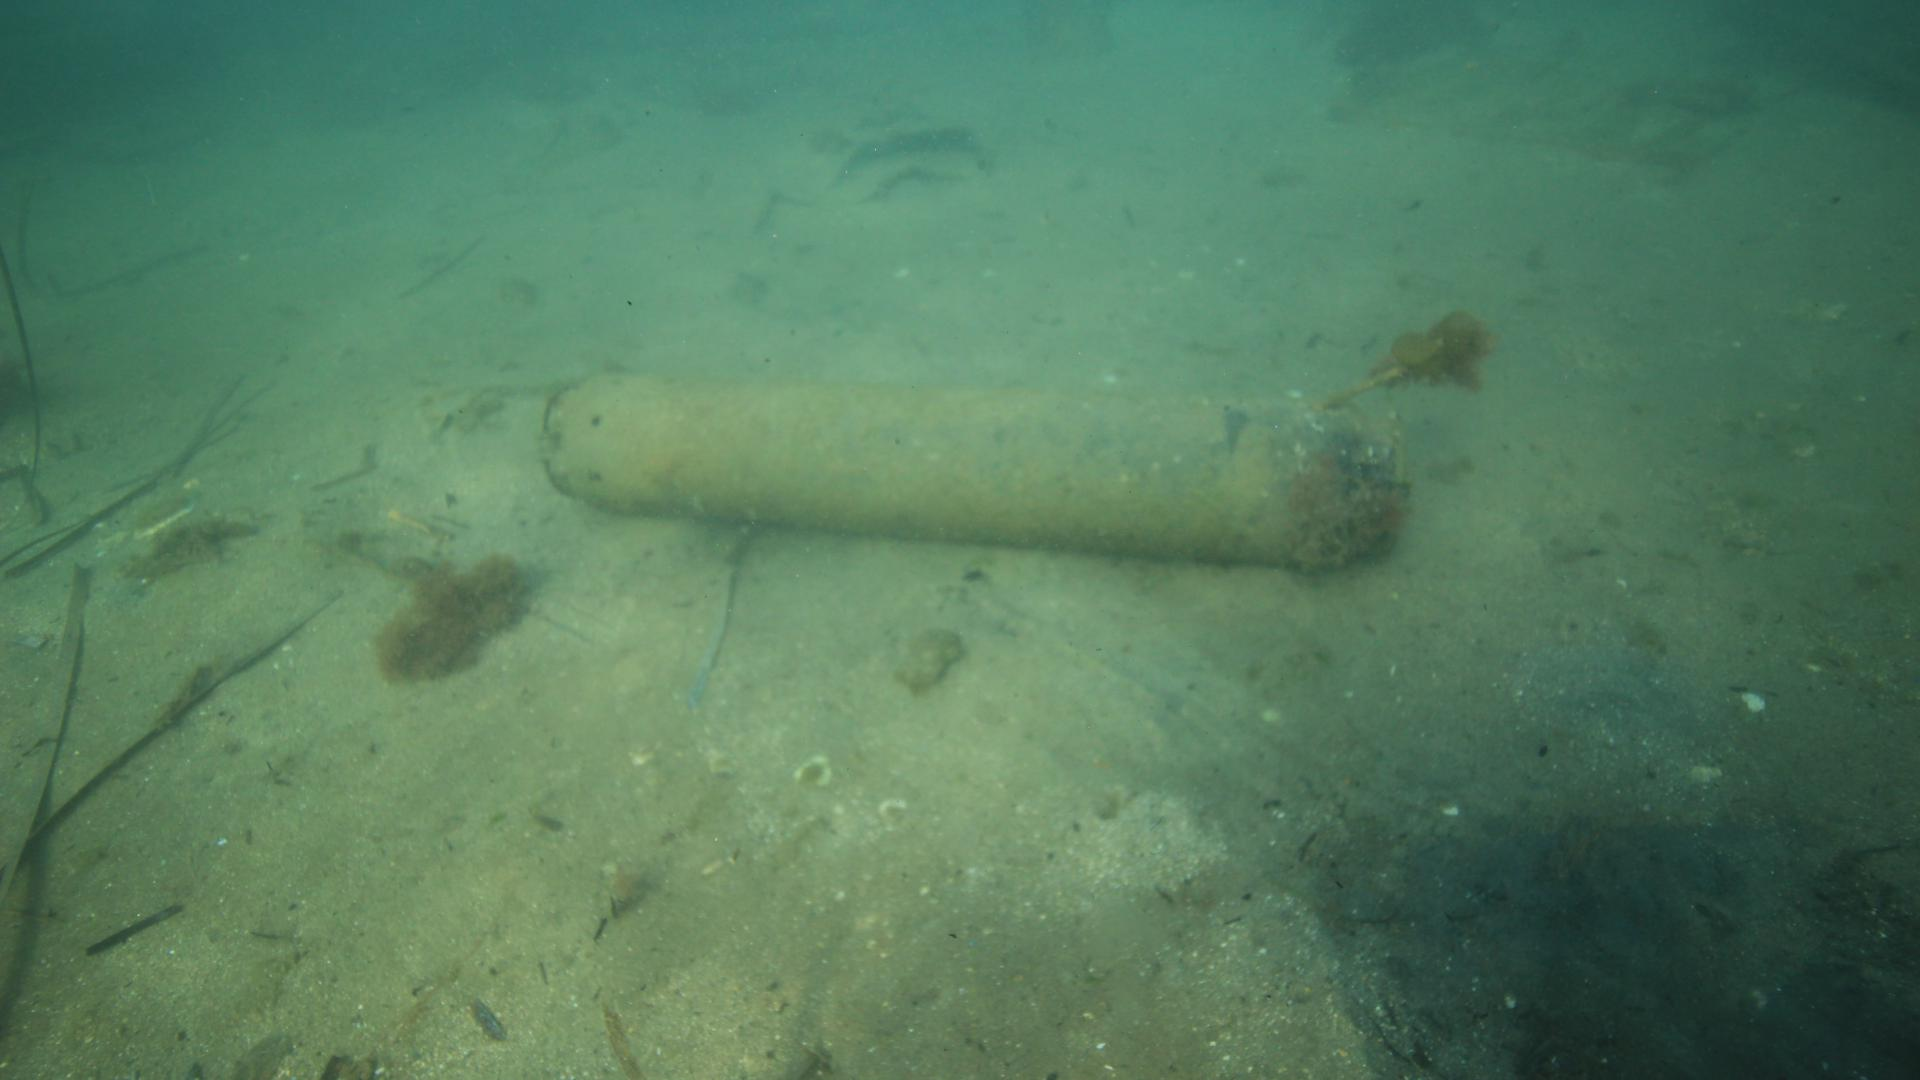eel fish trap: (534, 371, 1398, 568)
